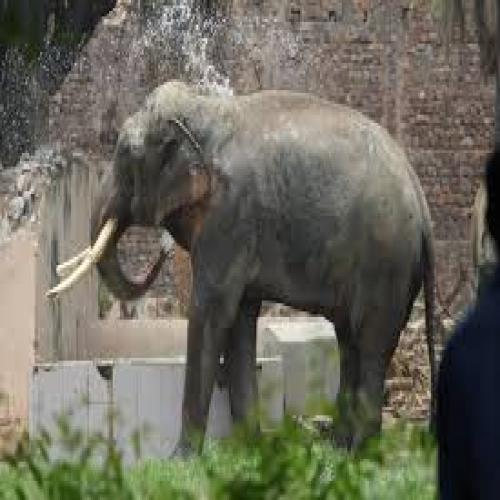asian_elephant-endangered: (47, 81, 439, 462)
